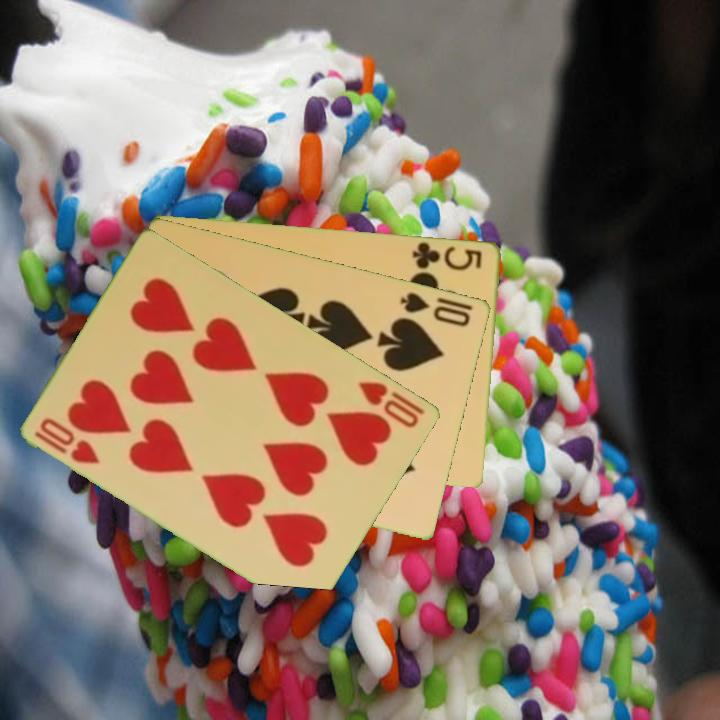10h: (355, 377, 428, 431), (31, 414, 103, 467)
10s: (397, 288, 474, 329)
5c: (410, 238, 485, 273)
